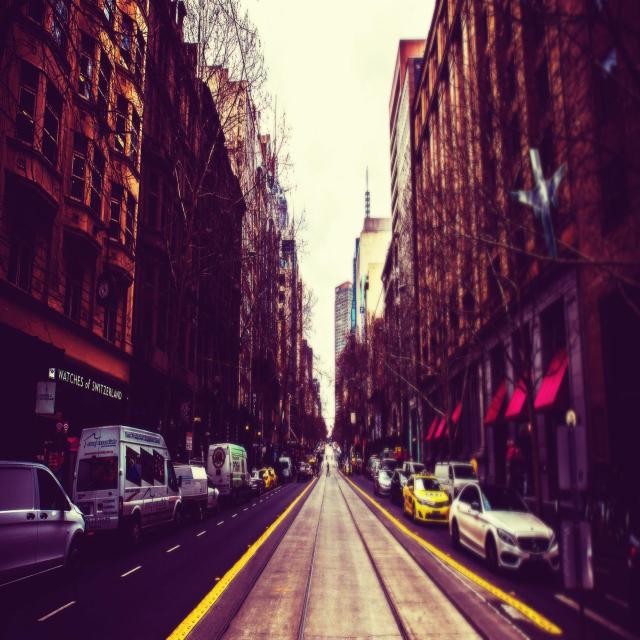airplane: (510, 144, 566, 262)
